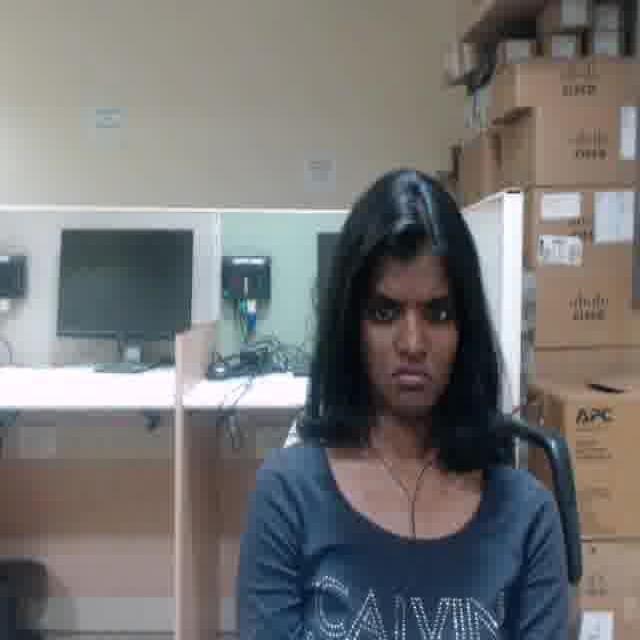Frustration: (359, 246, 457, 414)
